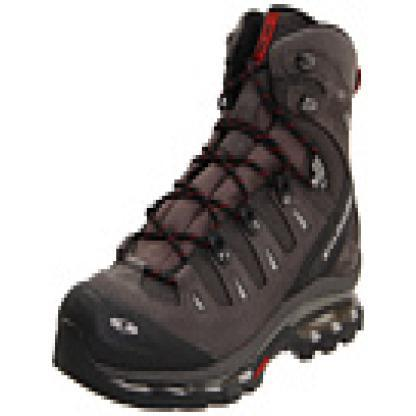bota: (53, 6, 370, 406)
